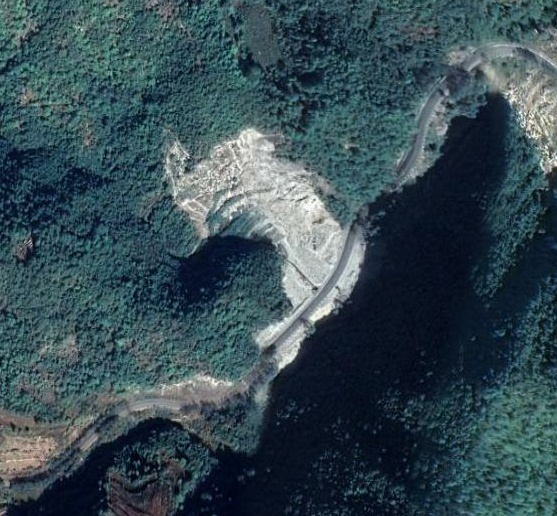slope: (166, 122, 349, 346), (272, 228, 370, 378), (504, 64, 556, 179)
